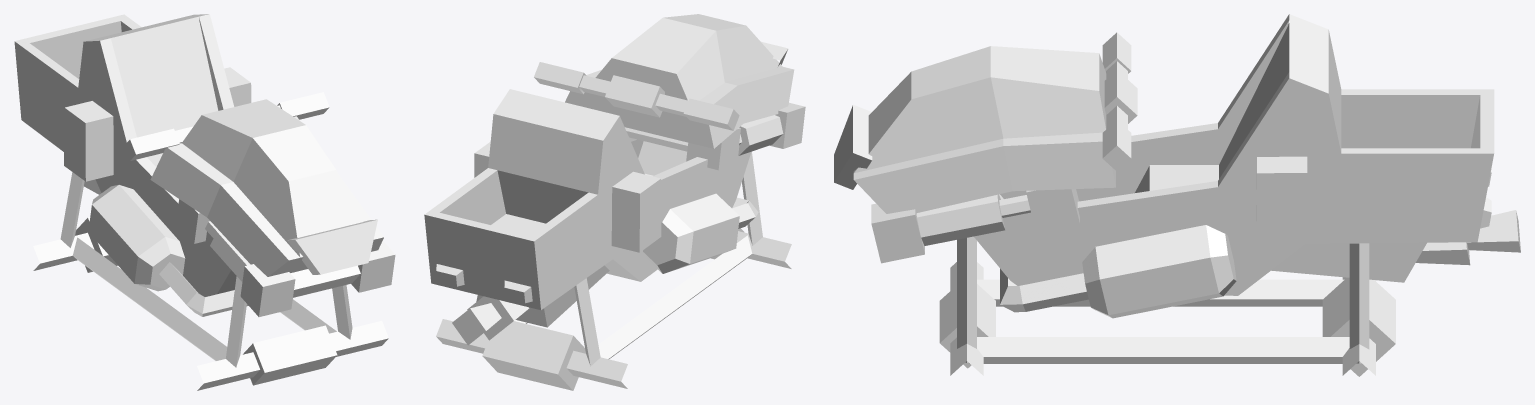
Rendered from Truck 5 Body.glb.
3 views of the same model, side by side, from view 1: azimuth 30°, elevation 25°; view 2: azimuth 150°, elevation 25°; view 3: azimuth 270°, elevation 25° (orthographic). The views are drawn at different scales.
Parts seen in each view (by area): view 1: body, interior; view 2: body, interior; view 3: body, interior.
Part boxes in pixels (x1,y1,x2,y2): body: (14,14,383,296); interior: (33,16,395,390); body: (424,14,794,309); interior: (436,62,805,390); body: (834,14,1494,318); interior: (871,23,1520,376).
Size of the model in its own units: 1.88 by 2.39 by 4.82.
Materials: 1 (1 with a texture image).
